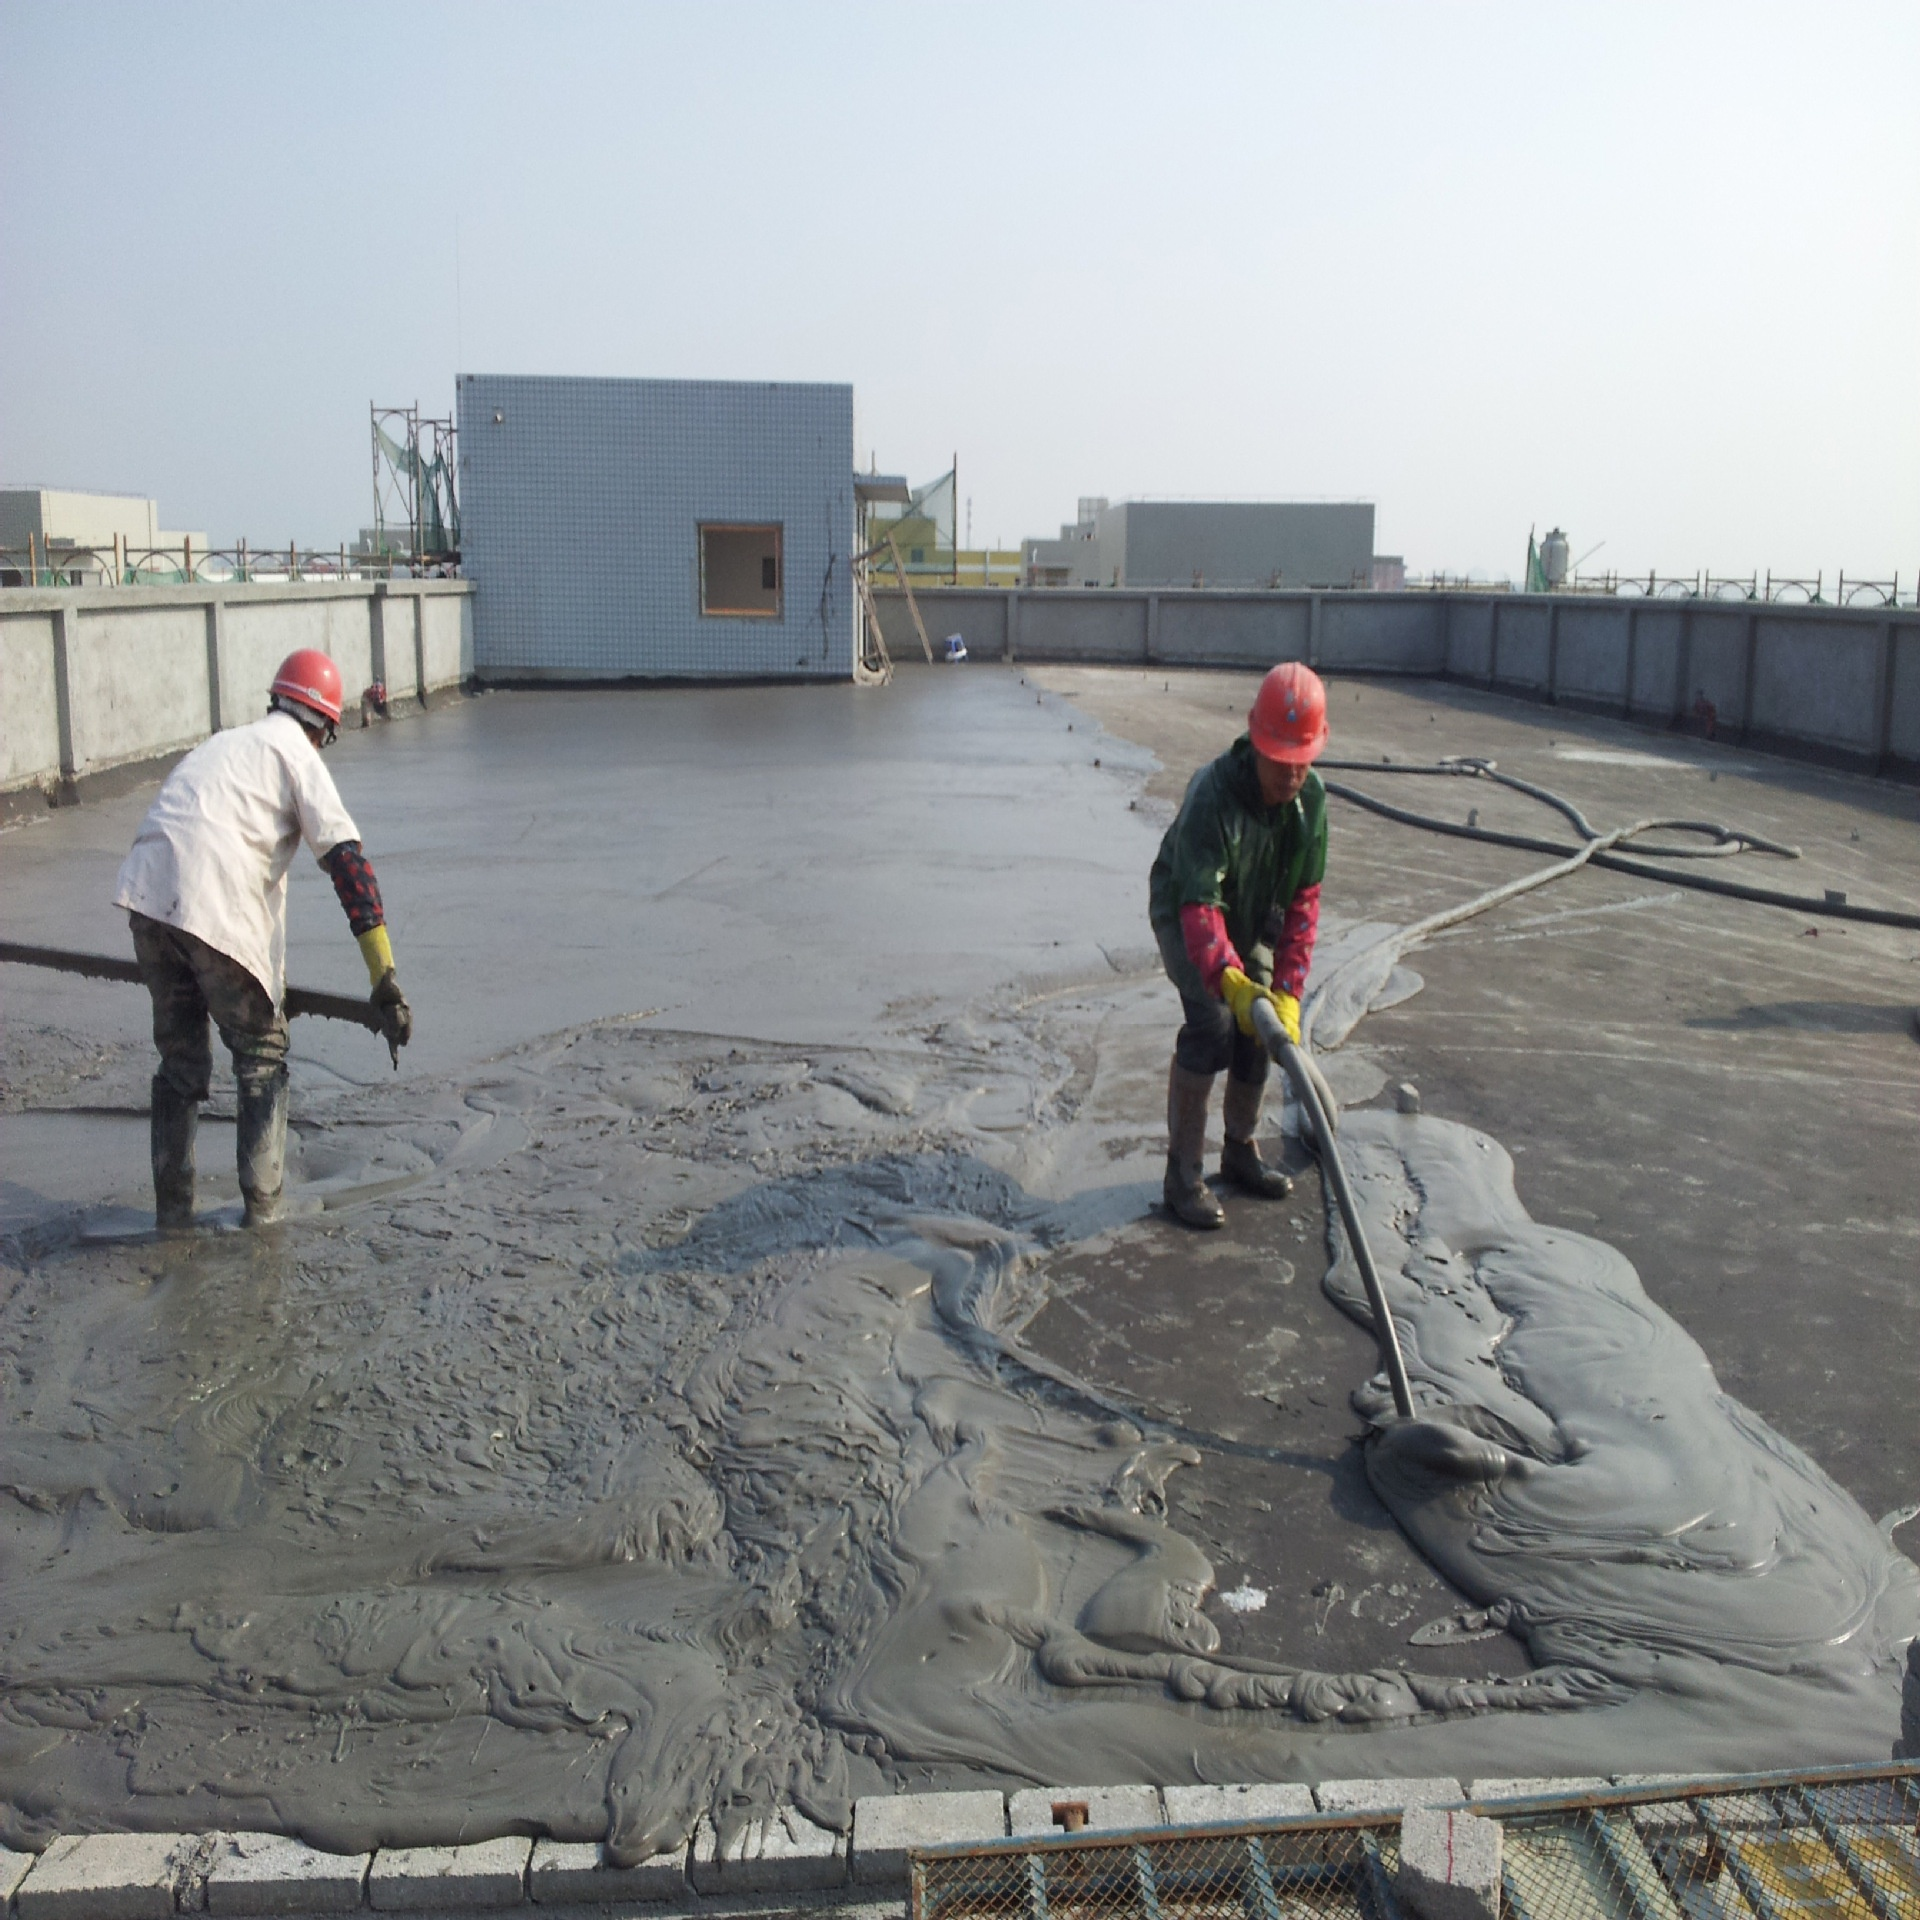red: (1238, 659, 1331, 802), (253, 638, 350, 754)
